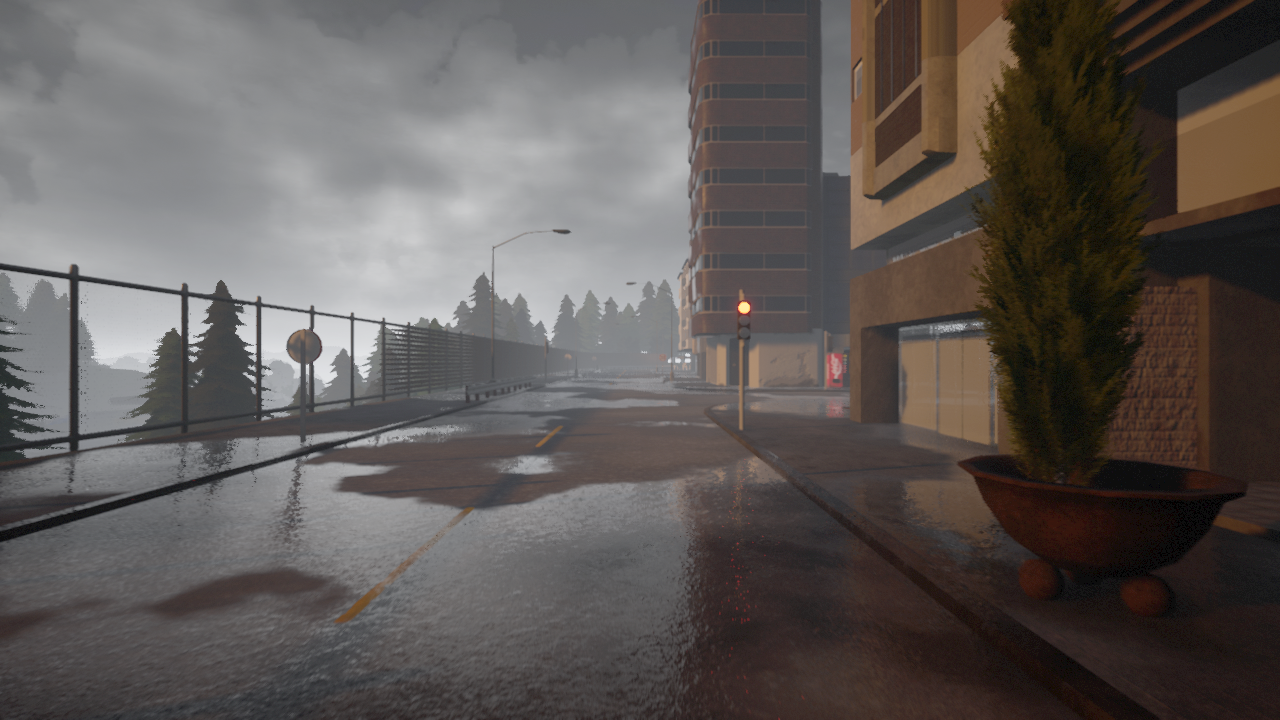red: (736, 300, 751, 341)
